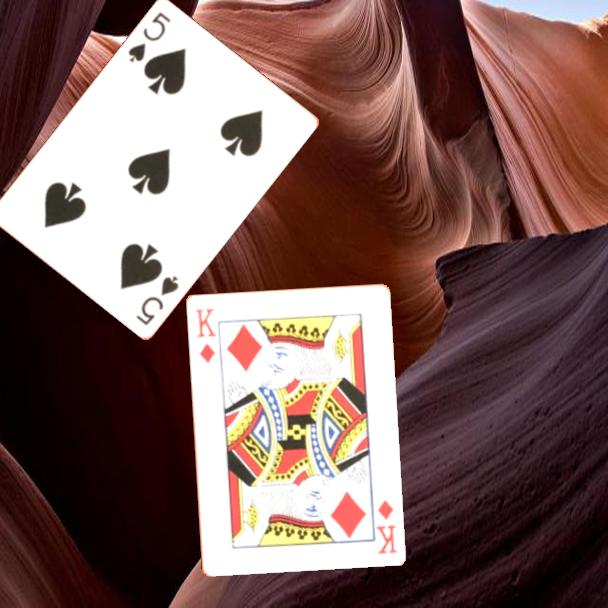d13: (372, 496, 400, 557), (192, 305, 219, 366)
s05: (132, 271, 182, 328), (124, 8, 173, 65)
